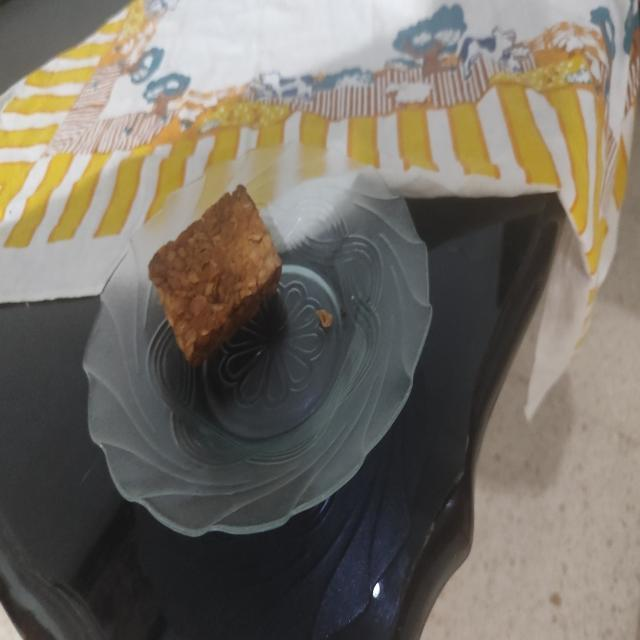tempe_goreng: (148, 186, 282, 366)
